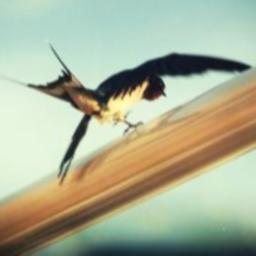Swallow: (0, 40, 256, 185)
